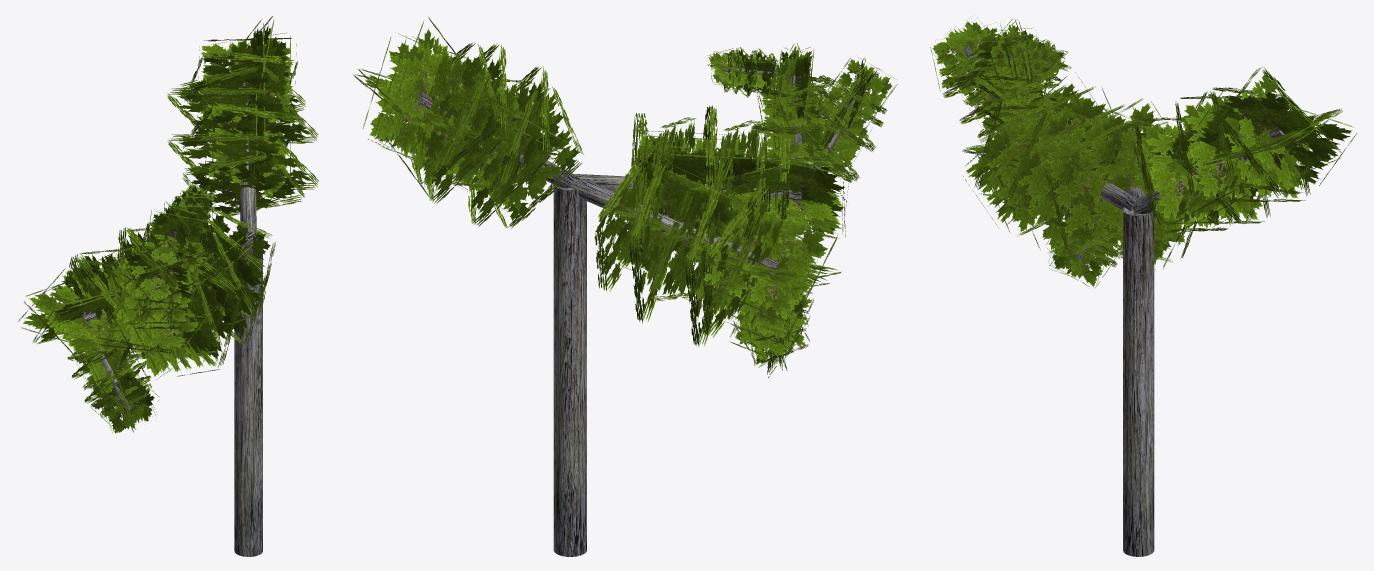
3 renders of one model, left to right at view 1: azimuth 30°, elevation 25°; view 2: azimuth 150°, elevation 25°; view 3: azimuth 270°, elevation 25°, orthographic. The views are drawn at different scales.
Visible parts, largest first — view 1: leaf (1), leaf (3), treeStart leaves, leaf (5), leaf (6), leaf, leaf (2), leaf (14), leaf (4), leaf (10), leaf (13), leaf (9) (+6 smaller); view 2: treeStart leaves, leaf (1), leaf (3), leaf (5), leaf, leaf (6), leaf (2), leaf (4), leaf (13), leaf (14), leaf (10), leaf (9) (+5 smaller); view 3: leaf (1), treeStart leaves, leaf, leaf (3), leaf (6), leaf (5), leaf (4), leaf (2), leaf (14), leaf (13), leaf (9), leaf (10) (+5 smaller).
Part boxes in pixels (x1,y1,x2,y2): leaf (1): [72, 133, 318, 379]; leaf (3): [73, 87, 318, 403]; treeStart leaves: [234, 232, 262, 556]; leaf (5): [62, 51, 297, 418]; leaf (6): [18, 32, 290, 432]; leaf: [67, 153, 304, 360]; leaf (2): [82, 103, 303, 390]; leaf (14): [24, 16, 274, 433]; leaf (4): [72, 66, 305, 407]; leaf (10): [34, 38, 296, 429]; leaf (13): [32, 38, 295, 432]; leaf (9): [29, 19, 264, 429]; treeStart leaves: [553, 185, 586, 556]; leaf (1): [468, 48, 859, 343]; leaf (3): [426, 43, 875, 361]; leaf (5): [378, 46, 887, 363]; leaf: [478, 53, 853, 324]; leaf (6): [385, 17, 866, 377]; leaf (2): [434, 50, 864, 341]; leaf (4): [403, 43, 883, 358]; leaf (13): [353, 47, 897, 367]; leaf (14): [362, 32, 881, 370]; leaf (10): [357, 48, 895, 366]; leaf (9): [375, 36, 870, 370]; leaf (1): [959, 36, 1270, 262]; treeStart leaves: [1123, 207, 1154, 556]; leaf: [977, 36, 1232, 269]; leaf (3): [943, 39, 1310, 259]; leaf (6): [930, 22, 1357, 287]; leaf (5): [946, 41, 1321, 267]; leaf (4): [946, 43, 1307, 257]; leaf (2): [963, 39, 1260, 253]; leaf (14): [932, 21, 1341, 277]; leaf (13): [945, 17, 1342, 286]; leaf (9): [935, 24, 1338, 272]; leaf (10): [947, 19, 1340, 286].
Size of the model in its own units: 6.6 by 8.96 by 6.89.
